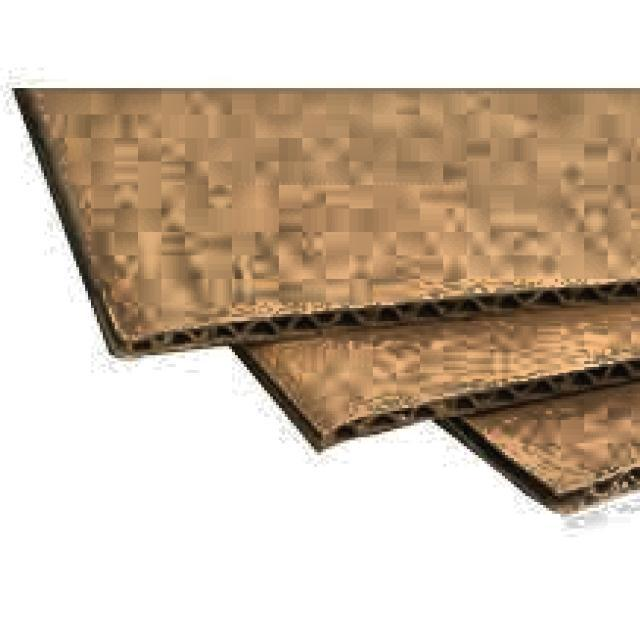cardboard: (9, 82, 640, 358)
